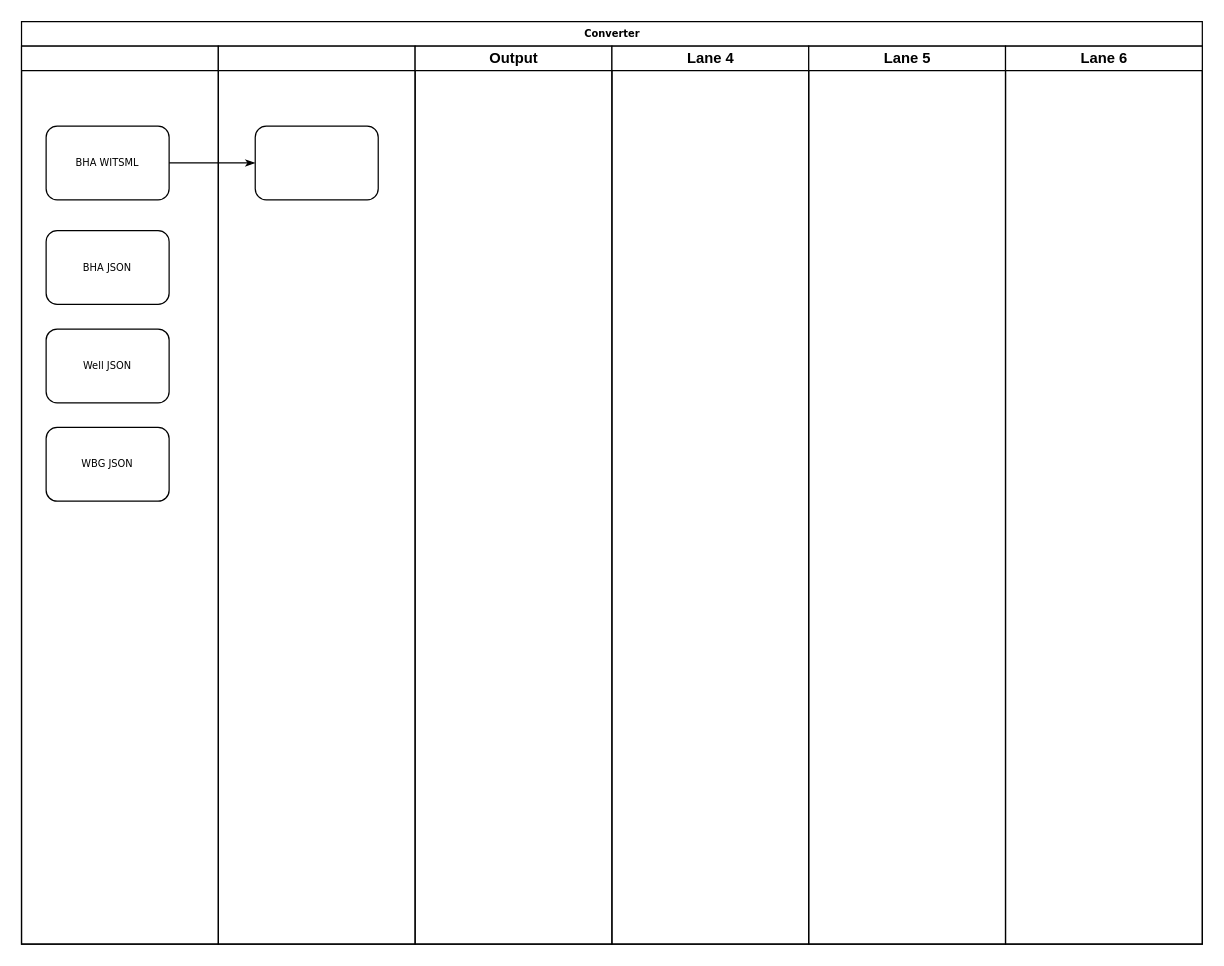
The diagram is 1224 pixels wide and 966 high, and some of its shapes have lost their labels. Here are the shapes that lost their labels. From the top down, the box of each, then its label:
(20, 45, 218, 944): Input
(217, 45, 415, 944): Parse
